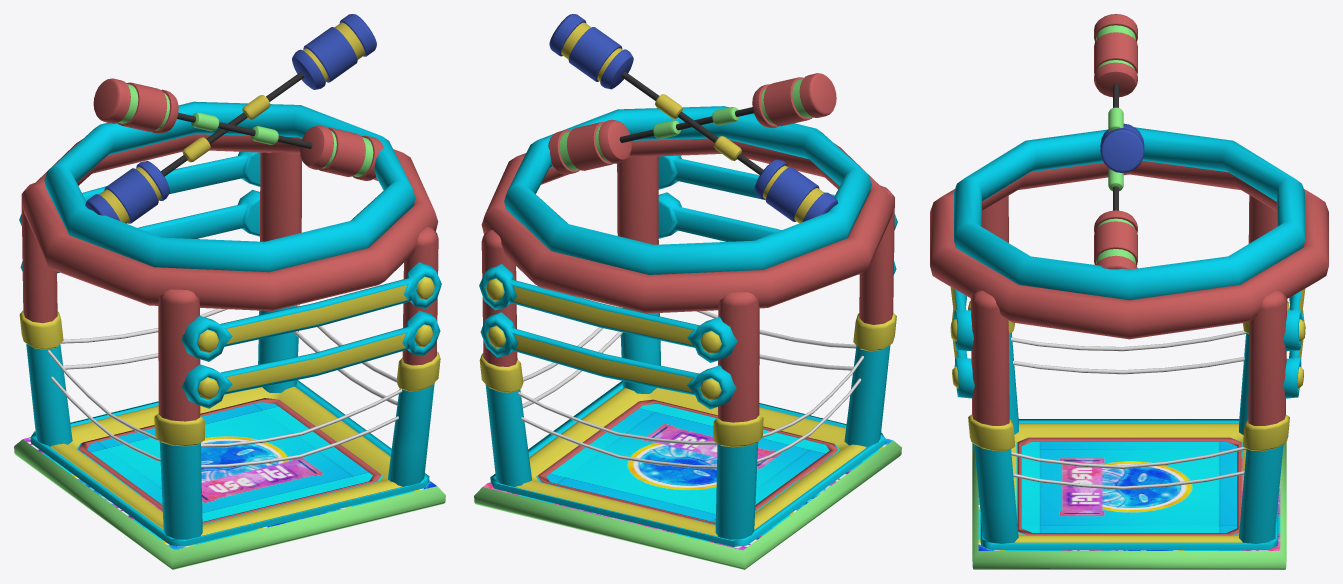
Rendered from ringTesto2.fbx.
The picture shows the model from 3 angles, left to right: view 1: azimuth 30°, elevation 25°; view 2: azimuth 150°, elevation 25°; view 3: azimuth 270°, elevation 25°; orthographic projection.
Visible parts, largest first — view 1: mainRing, churrasosTop, center; view 2: mainRing, churrasosTop, center; view 3: mainRing, center, churrasosTop.
Boxes of the visible parts, left/top/right/bottom form: mainRing: left=14, top=101, right=445, bottom=569; churrasosTop: left=85, top=14, right=383, bottom=223; center: left=23, top=402, right=436, bottom=549; mainRing: left=474, top=106, right=901, bottom=569; churrasosTop: left=548, top=14, right=838, bottom=223; center: left=483, top=403, right=892, bottom=550; mainRing: left=930, top=127, right=1328, bottom=569; center: left=978, top=439, right=1280, bottom=550; churrasosTop: left=1094, top=14, right=1144, bottom=269.
Bounding box in the file's own units: 34.87 × 39.52 × 32.96.
